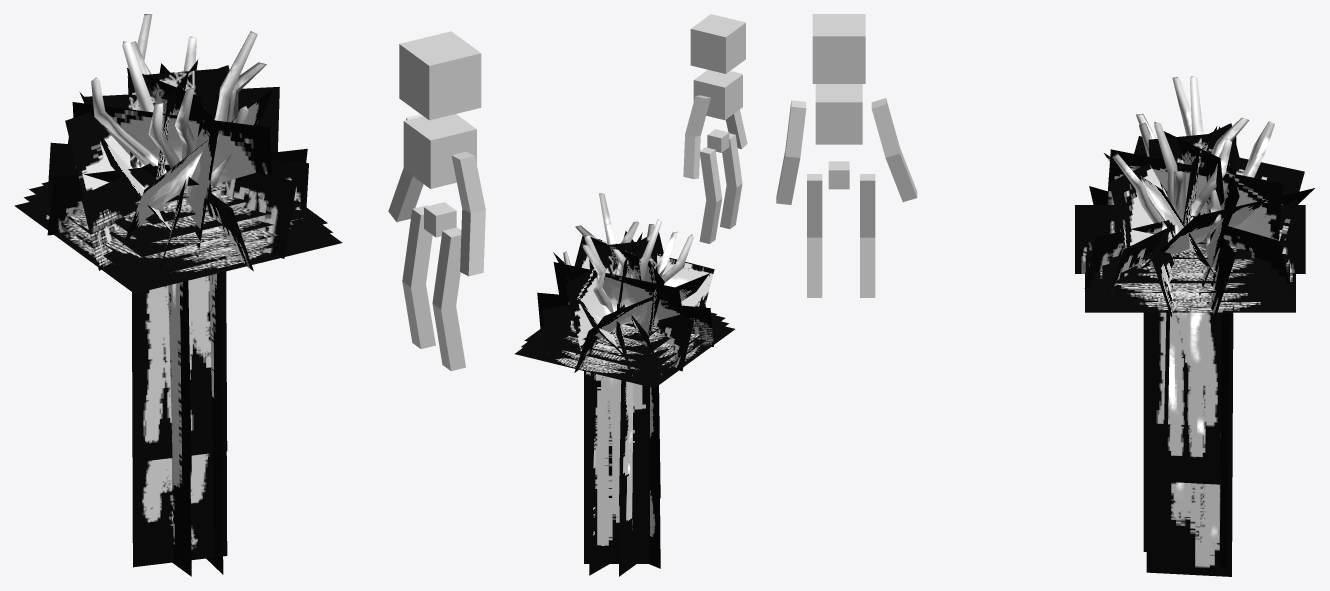
The model's file is Stuff-1.fbx.
The picture shows the model from 3 angles, left to right: view 1: azimuth 30°, elevation 25°; view 2: azimuth 150°, elevation 25°; view 3: azimuth 270°, elevation 25°; orthographic projection. The views are drawn at different scales.
Visible parts, largest first — view 1: Cube, Vine_01, Bush_01, Bush_08, Bush_05, Vine_03, Bush_07, Bush_03; view 2: Vine_01, Cube, Bush_01, Bush_08, Bush_05, Bush_07, Bush_03, Vine_03; view 3: Cube, Vine_03, Bush_01, Bush_05, Bush_08, Vine_01, Bush_07, Bush_03.
Boxes of the visible parts, x1,y1,x2,y2 form: Cube: (388, 31, 485, 371); Vine_01: (132, 273, 227, 576); Bush_01: (65, 63, 279, 256); Bush_08: (14, 182, 342, 293); Bush_05: (46, 137, 308, 278); Vine_03: (132, 271, 227, 471); Bush_07: (91, 14, 266, 186); Bush_03: (127, 59, 228, 193); Vine_01: (584, 371, 660, 576); Cube: (683, 14, 747, 243); Bush_01: (553, 231, 714, 355); Bush_08: (515, 312, 735, 388); Bush_05: (537, 292, 713, 378); Bush_07: (563, 193, 693, 312); Bush_03: (589, 232, 657, 310); Vine_03: (589, 373, 660, 505); Cube: (776, 14, 917, 297); Vine_03: (1143, 312, 1233, 485); Bush_01: (1104, 123, 1314, 302); Bush_05: (1075, 186, 1305, 317); Bush_08: (1085, 239, 1295, 312); Vine_01: (1143, 312, 1233, 576); Bush_07: (1112, 76, 1274, 248); Bush_03: (1148, 126, 1236, 224).
Bounding box in the file's own units: 137 × 374 × 323.
